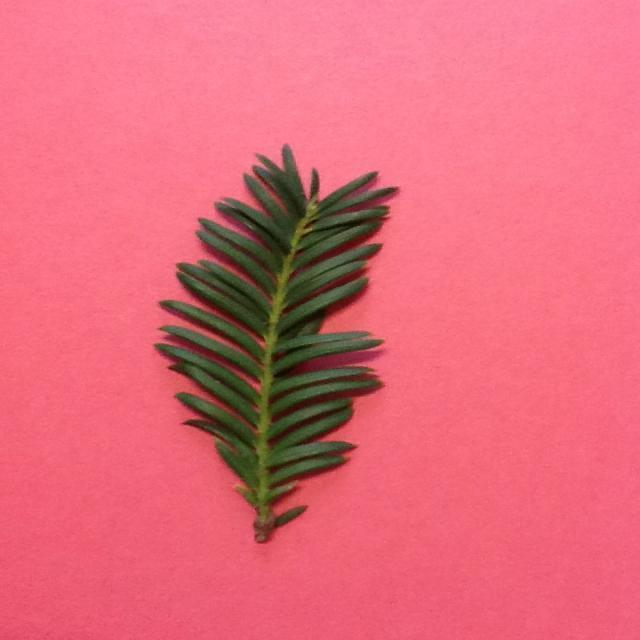foliage: (156, 141, 400, 544)
